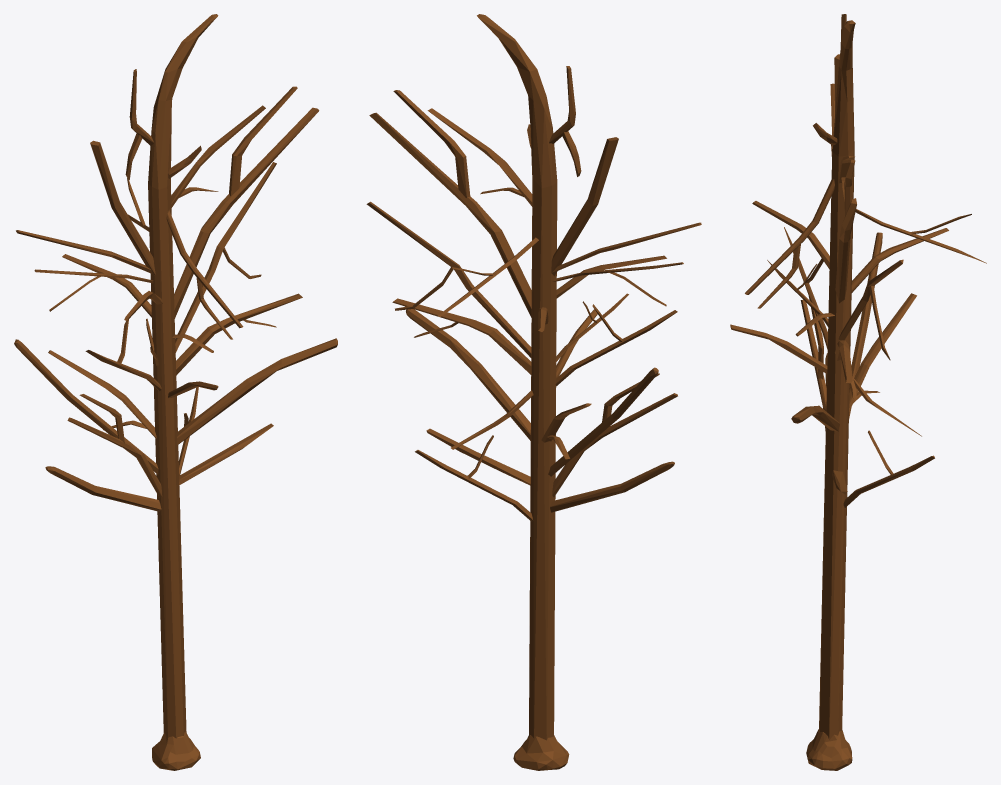
Rendered from mänd(1).fbx.
3 views of the same model, side by side, from view 1: azimuth 30°, elevation 25°; view 2: azimuth 150°, elevation 25°; view 3: azimuth 270°, elevation 25° (orthographic). The views are drawn at different scales.
Parts seen in each view (by area): view 1: Cylinder.030; view 2: Cylinder.030; view 3: Cylinder.030.
Boxes of the visible parts, x1,y1,x2,y2 form: Cylinder.030: [14, 14, 337, 770]; Cylinder.030: [366, 14, 701, 770]; Cylinder.030: [730, 14, 986, 770].
Size of the model in its own units: 1495 by 3325 by 1012.
